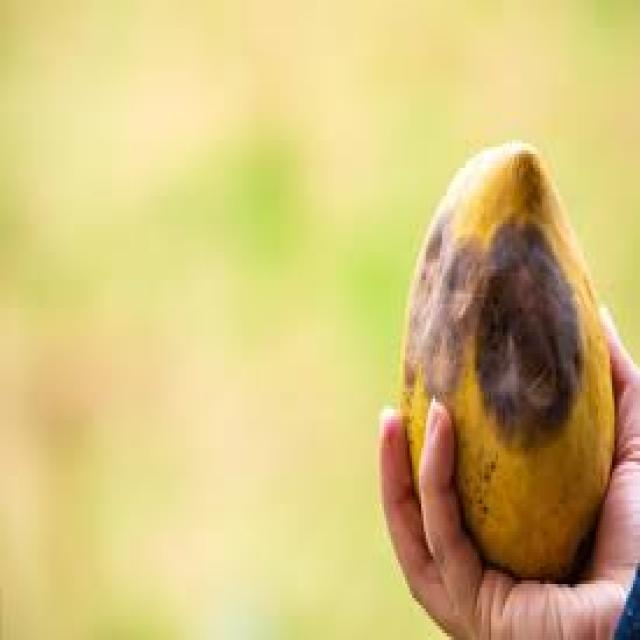Organik: (363, 105, 640, 587)
